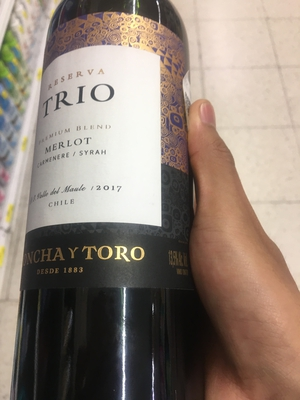trio merlot: (22, 10, 197, 394)
